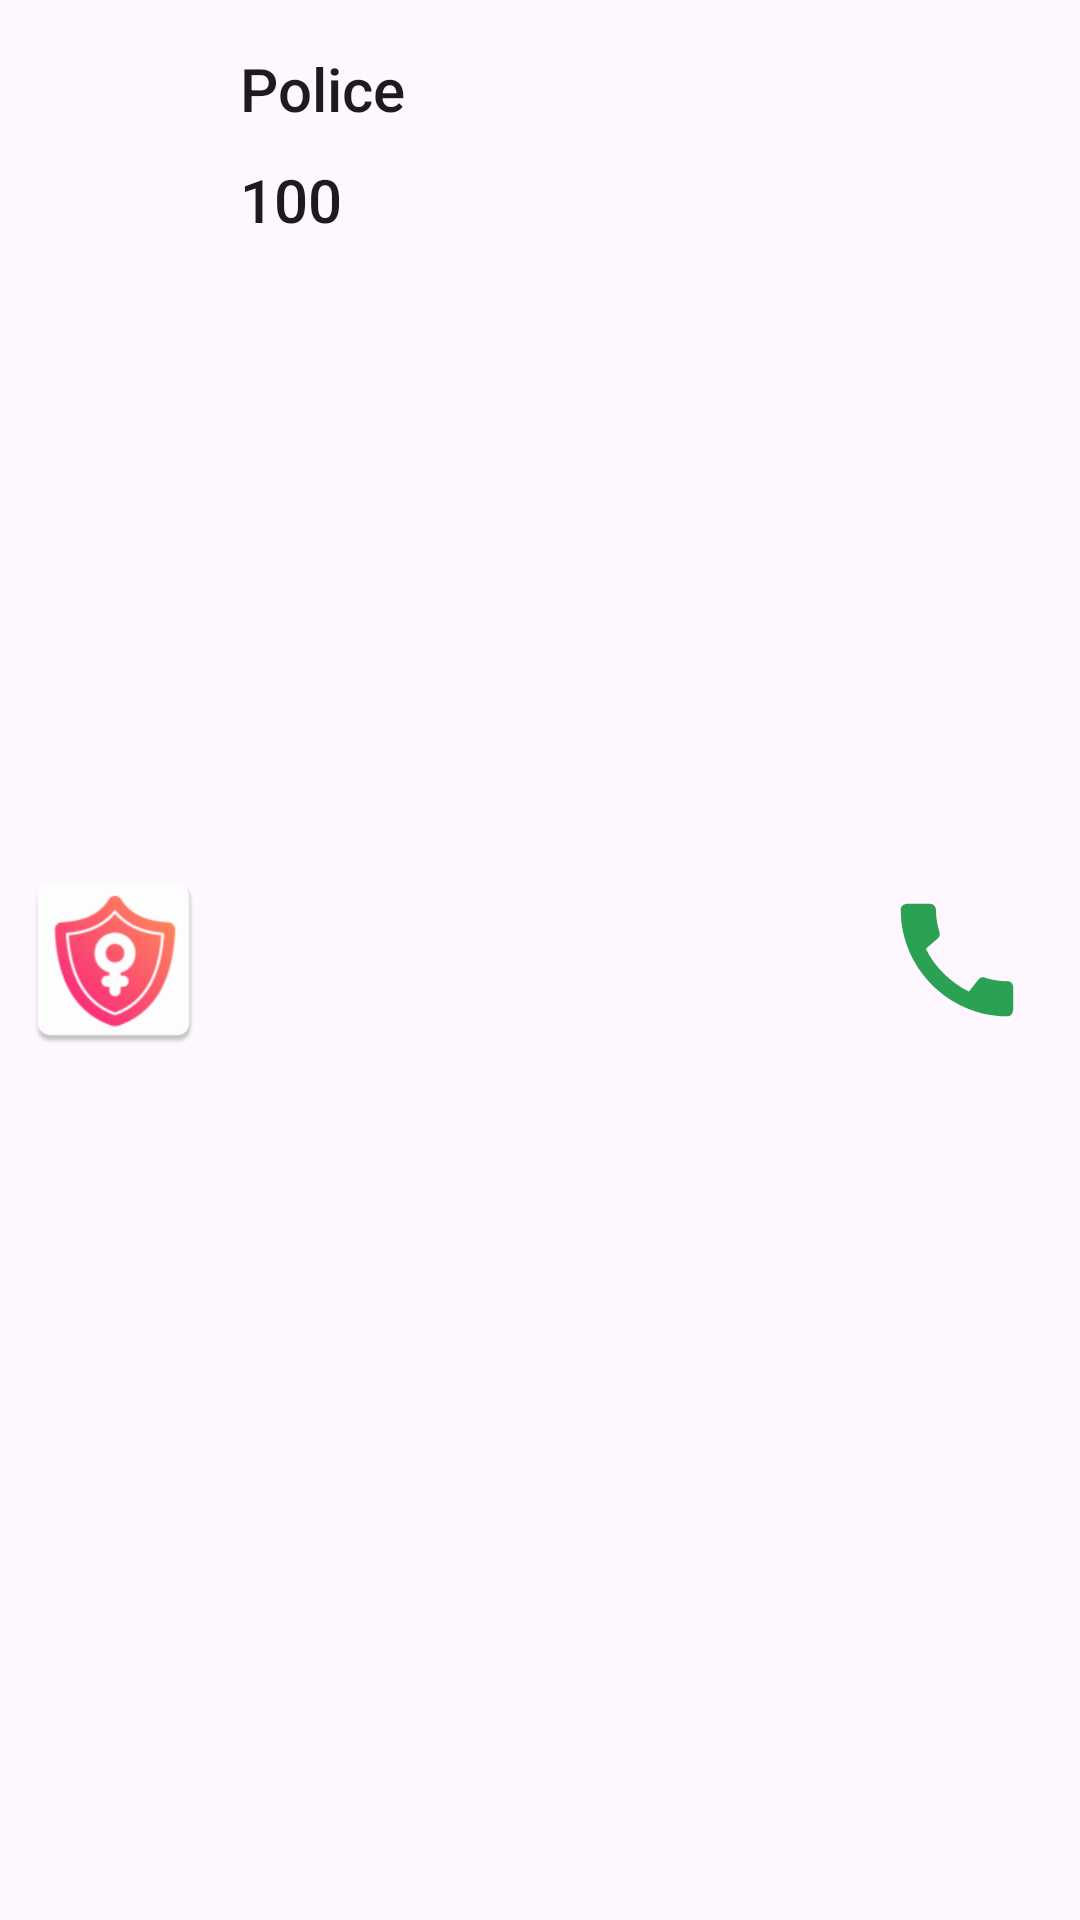

Locate icon controls on the screen. Image size 1080x1920, boxes as (x1, y1, x2, y2).
call: (900, 903, 1014, 1017)
